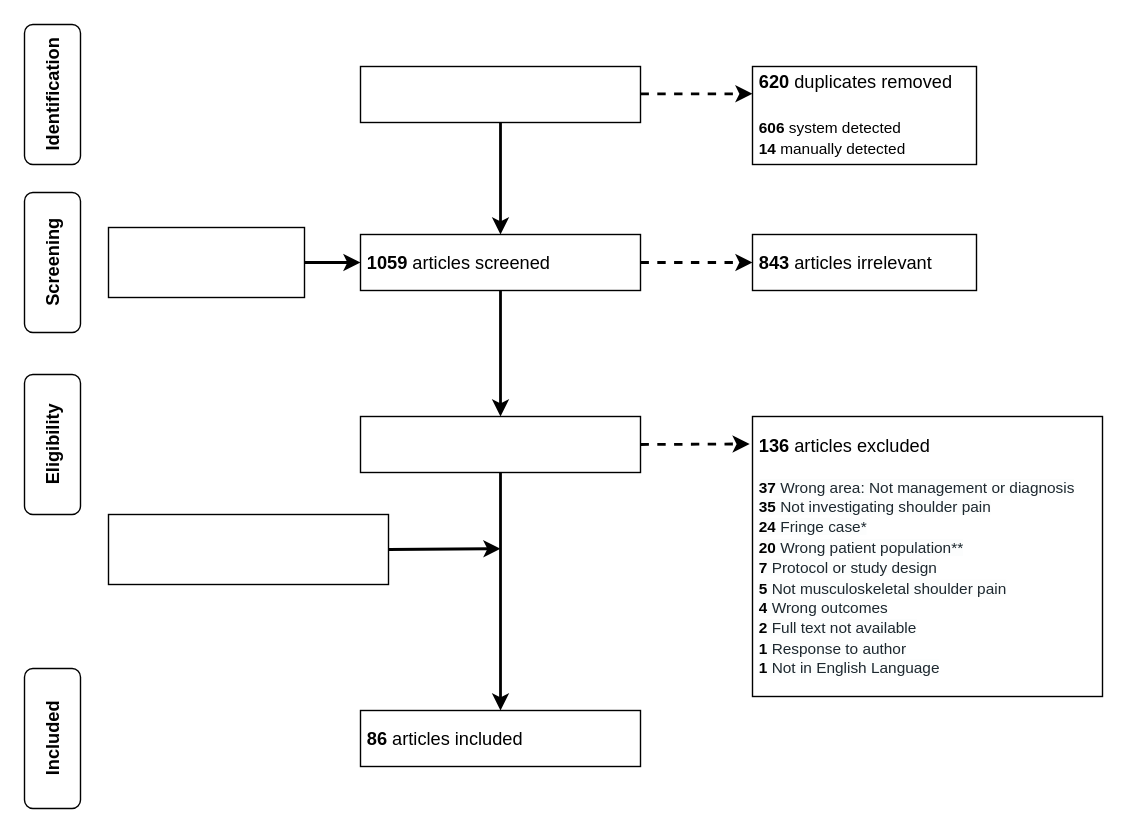
The diagram is 1127 pixels wide and 833 high, and some of its shapes have lost their labels. Each missing label, with the box of its shape:
1679 articles imported for screening: (359, 65, 640, 122)
2 additional articles identified for screening: (107, 226, 304, 298)
216 full-text articles assessed for eligibility: (359, 415, 640, 472)
6 articles added from reference list scanning: (107, 513, 388, 584)
